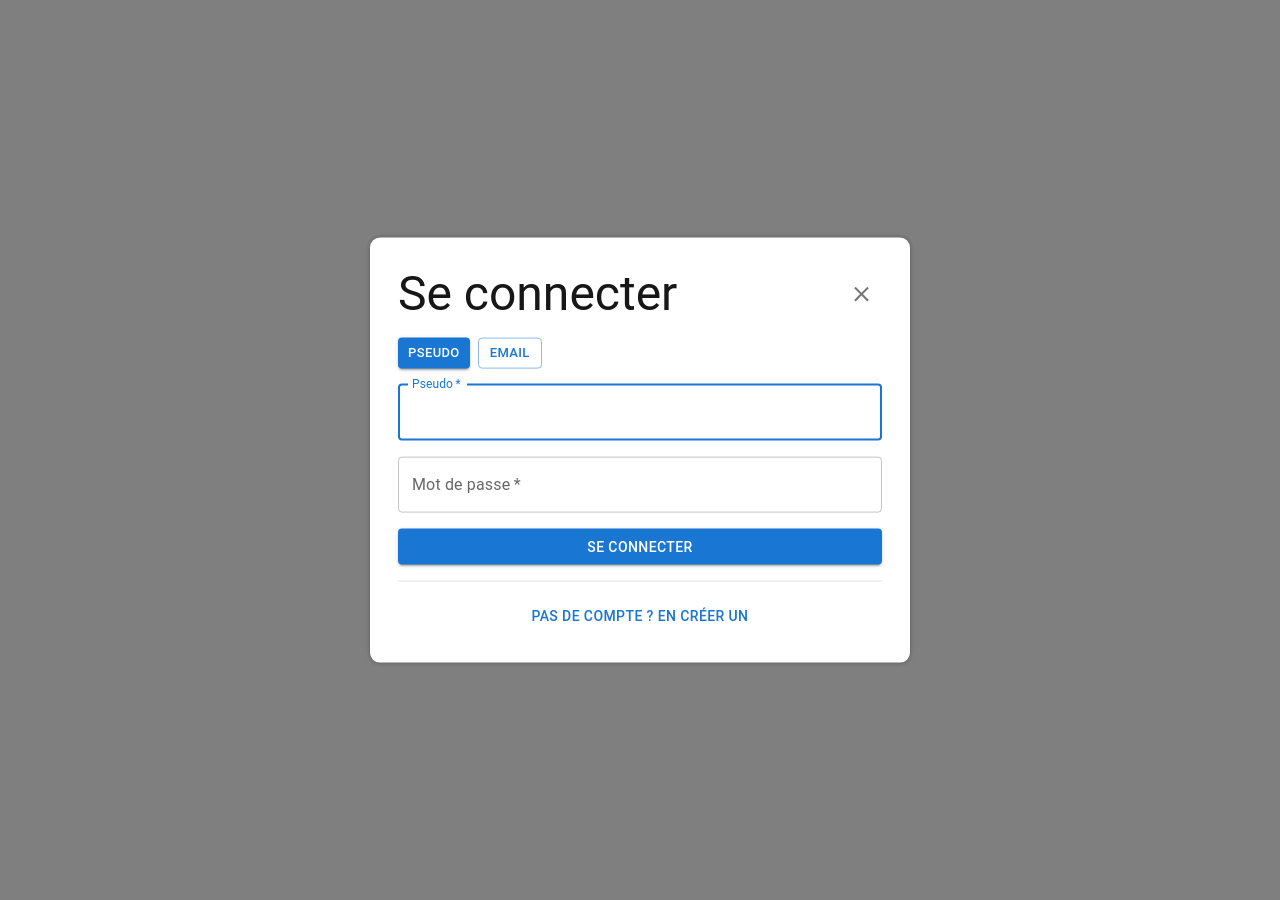
AuthModal › mot de passe oublié › affiche le champ email seul, sans mot de passe
Step 1. Click the button "Email" → (510, 353), box x1=478 y1=338 x2=542 y2=368
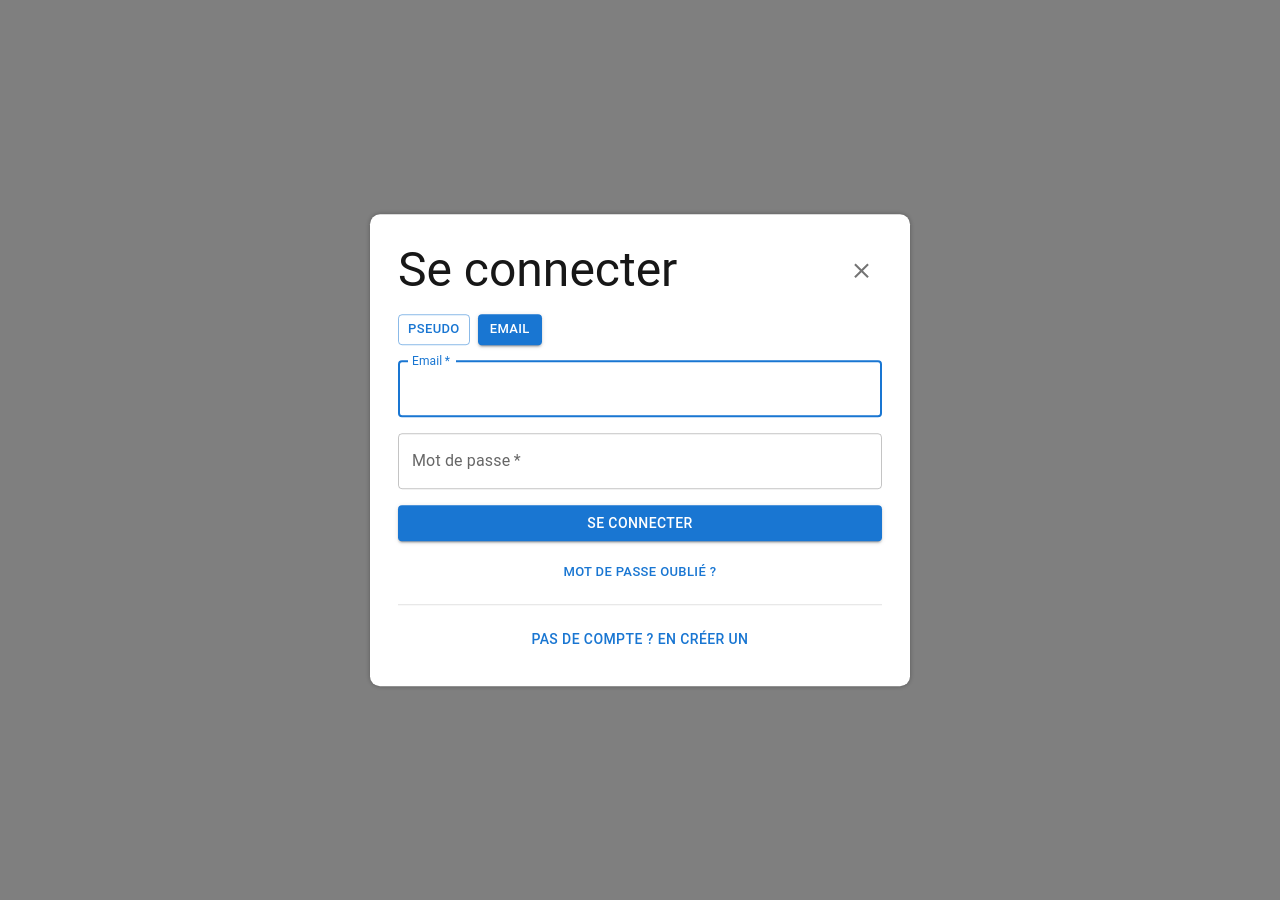
Step 2. Click the button "Mot de passe oublié ?" → (640, 573), box x1=398 y1=558 x2=882 y2=588
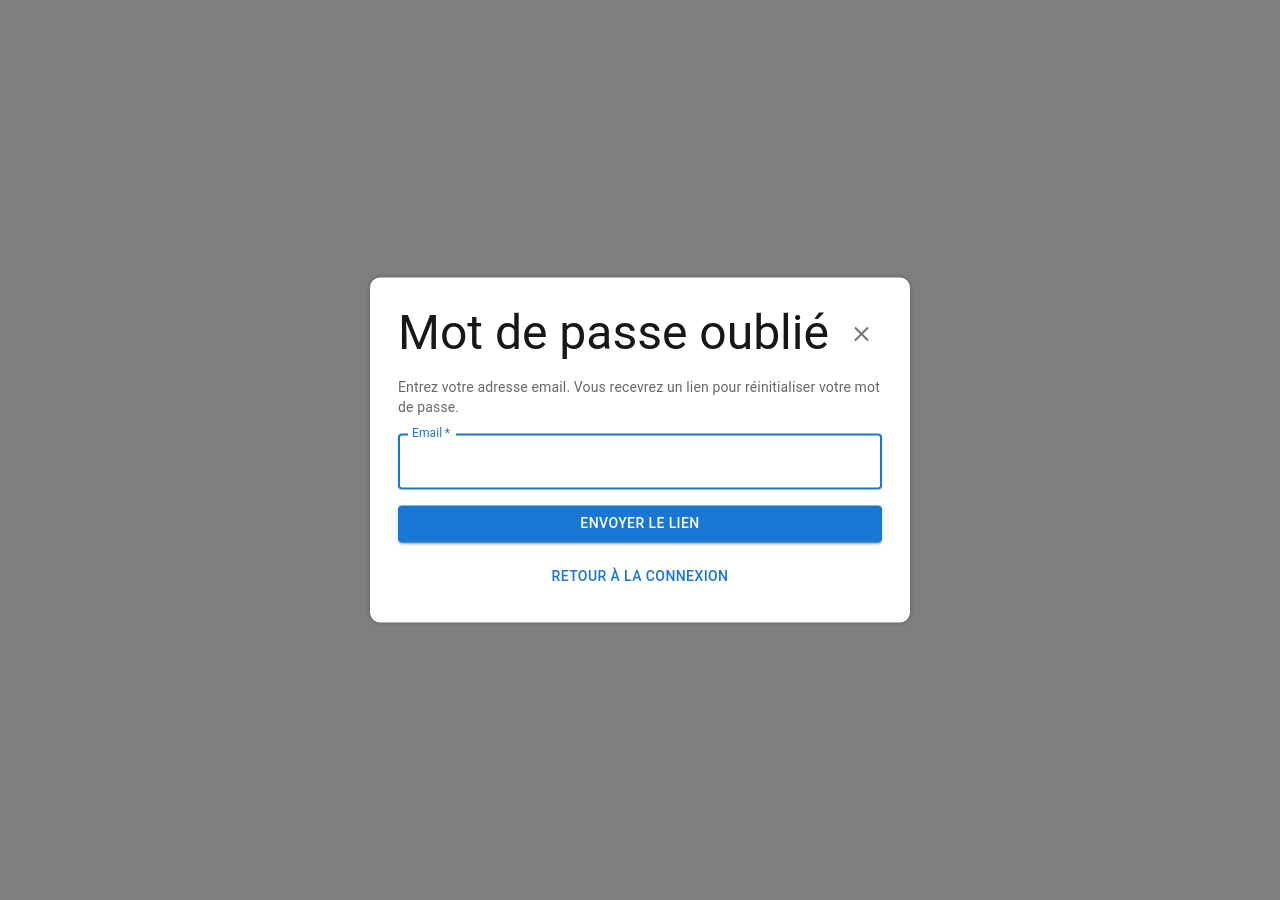
expect the field labelled "Email *" is shown: met, box x1=398 y1=434 x2=882 y2=490
expect the label labelled "Mot de passe*" is gone: met
